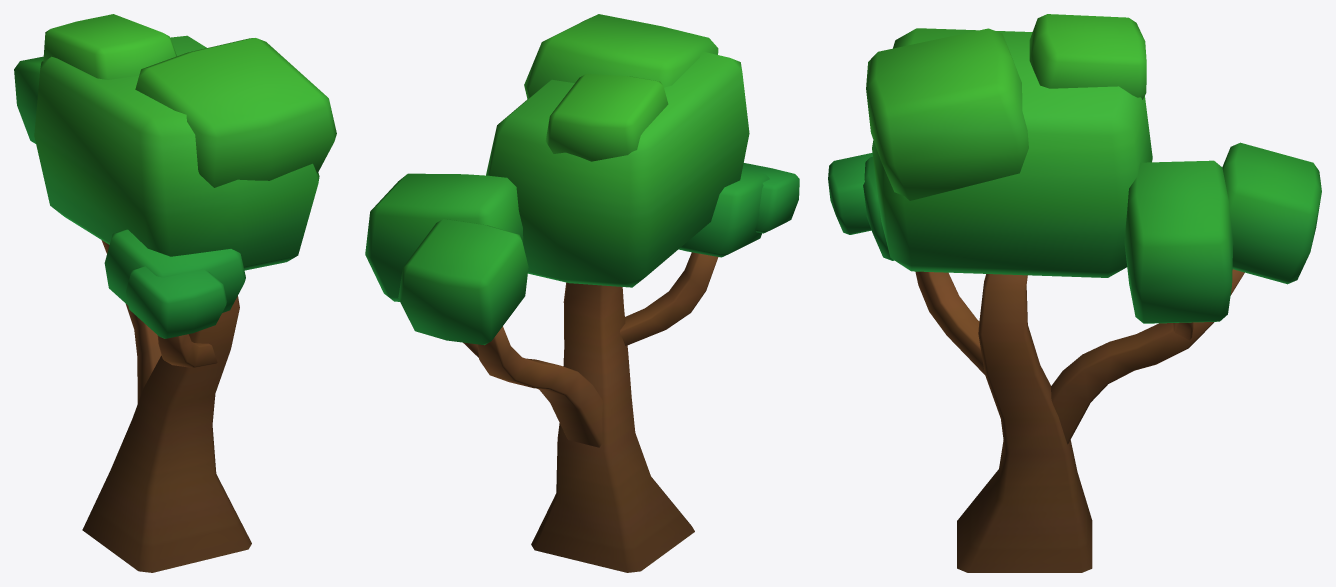
Rendered from Tree_D_5_.fbx.
3 views of the same model, side by side, from view 1: azimuth 30°, elevation 25°; view 2: azimuth 150°, elevation 25°; view 3: azimuth 270°, elevation 25° (orthographic). The views are drawn at different scales.
Visible parts, largest first — view 1: Tree_D_5; view 2: Tree_D_5; view 3: Tree_D_5.
Boxes of the visible parts, bbox=[...] form: Tree_D_5: bbox=[14, 14, 336, 572]; Tree_D_5: bbox=[365, 14, 799, 572]; Tree_D_5: bbox=[828, 14, 1321, 572].
Size of the model in its own units: 282 by 489 by 435.
